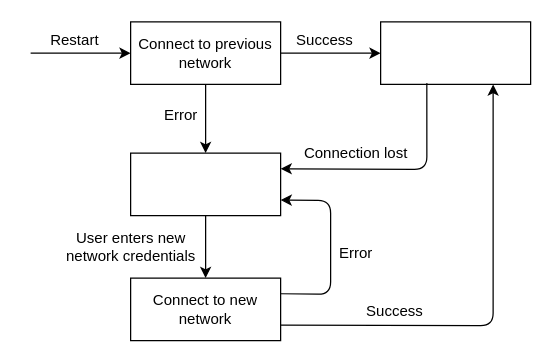
Image size: 553x363. Some labels were removed from this diagram. The shapes that lost their labels are listed below. From the top down, each one's centre as x and y in pixels, then its label:
At point (455, 52): "Continuously check for network".
At point (205, 184): "Start accespoint for configuration".
